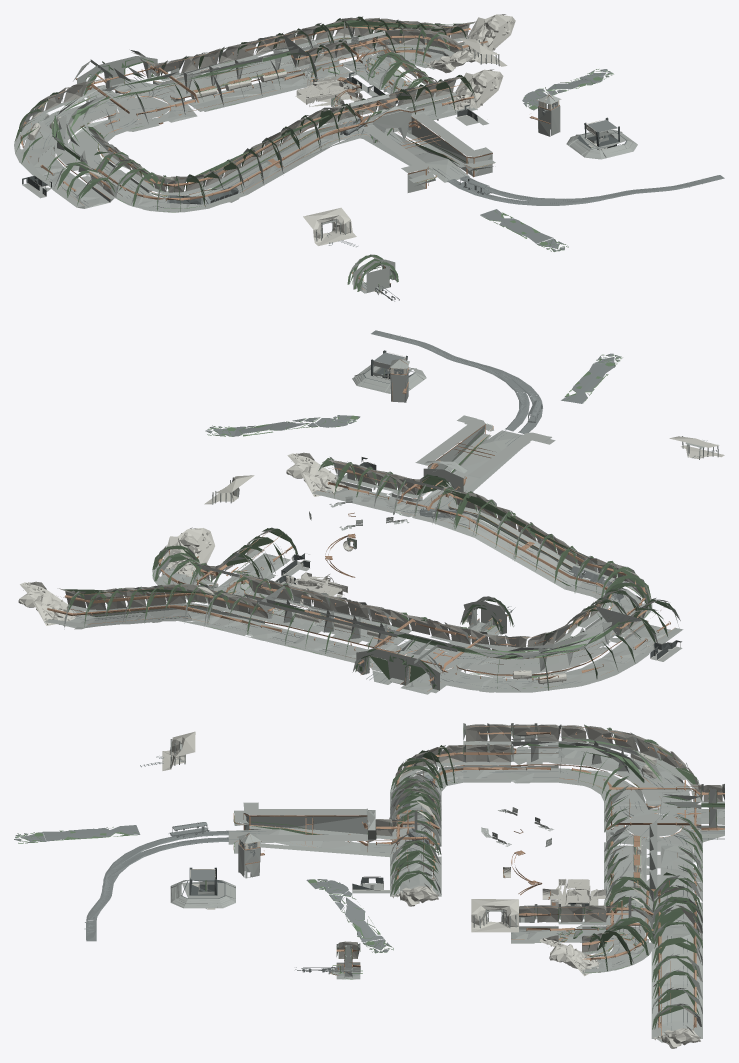
The model's file is military_tunnel_1-map.glb.
3 views of the same model, one above another, from view 1: azimuth 30°, elevation 25°; view 2: azimuth 150°, elevation 25°; view 3: azimuth 270°, elevation 25° (orthographic). The views are drawn at different scales.
Visible parts, largest first — view 1: corridor_train_tunnel_entrance_b_LOD0; view 2: corridor_train_tunnel_entrance_b_LOD0; view 3: corridor_train_tunnel_entrance_b_LOD0.
Boxes of the visible parts, bbox=[...] form: corridor_train_tunnel_entrance_b_LOD0: bbox=[14, 14, 724, 301]; corridor_train_tunnel_entrance_b_LOD0: bbox=[18, 330, 724, 694]; corridor_train_tunnel_entrance_b_LOD0: bbox=[14, 723, 724, 1048].
Bounding box in the file's own units: 259 × 87.27 × 269.
